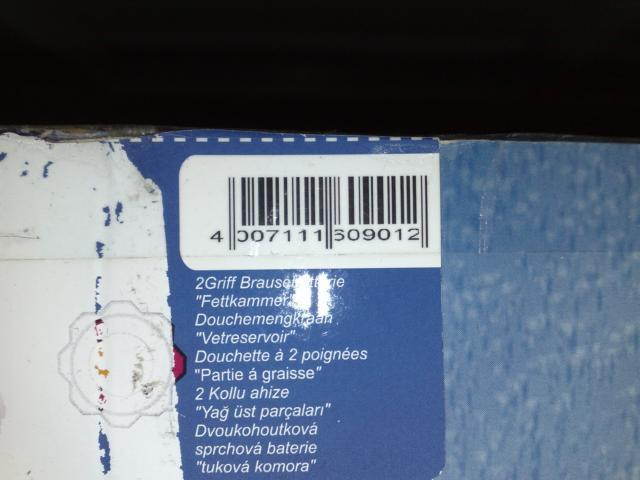Barcode: (201, 171, 439, 257)
